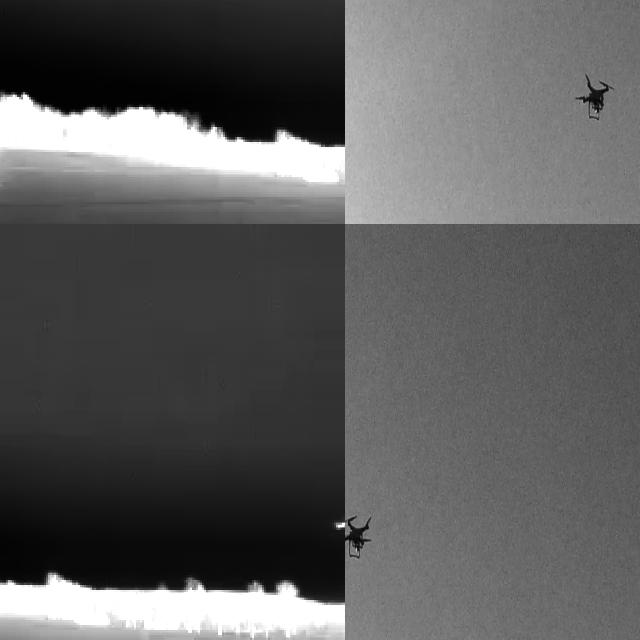1: (325, 510, 345, 545)
drone: (572, 71, 613, 118), (345, 513, 374, 558)
